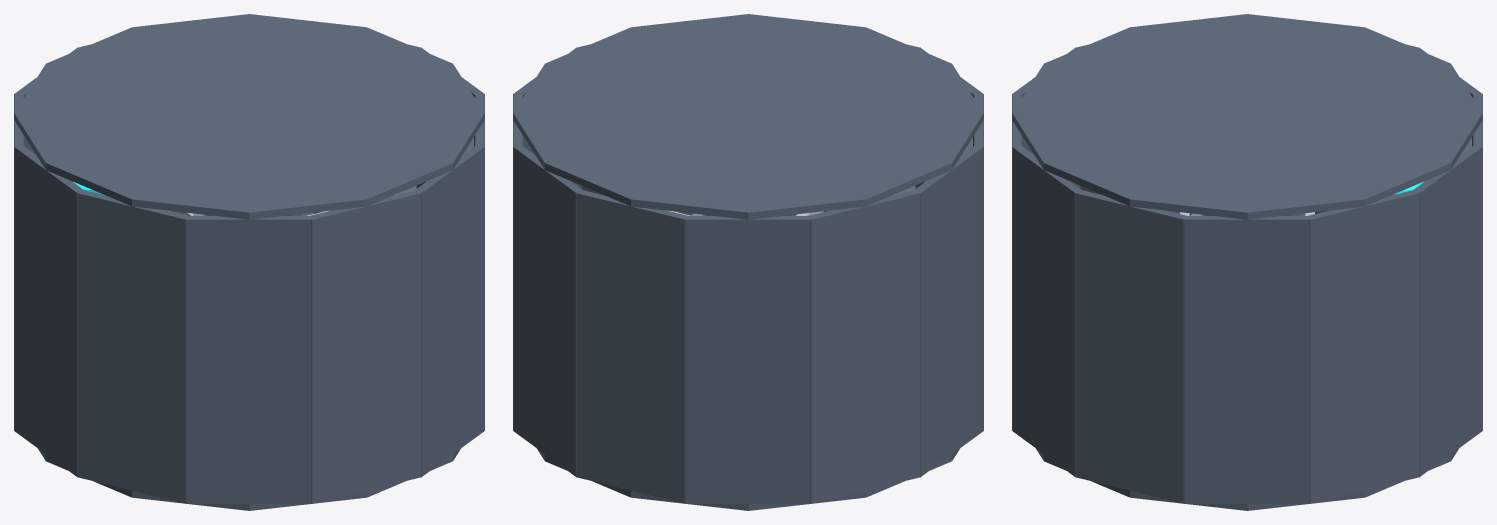
File: zero_g_reactor_arena_blockout.glb
3 renders of one model, left to right at view 1: azimuth 30°, elevation 25°; view 2: azimuth 150°, elevation 25°; view 3: azimuth 270°, elevation 25°, orthographic.
Visible parts, largest first — view 1: Hull_Ceiling, Hull_Wall_05, Hull_Wall_06, Hull_Wall_04, Hull_Wall_07, Hull_Wall_03, Hull_Floor, Hull_Wall_02, Hull_Wall_08; view 2: Hull_Ceiling, Hull_Wall_09, Hull_Wall_10, Hull_Wall_08, Hull_Wall_11, Hull_Wall_07, Hull_Floor, Hull_Wall_06, Hull_Wall_12; view 3: Hull_Ceiling, Hull_Wall_01, Hull_Wall_02, Hull_Wall_12, Hull_Wall_03, Hull_Wall_11, Hull_Floor, Hull_Wall_04, Hull_Wall_10.
Boxes of the visible parts, x1=… form: Hull_Ceiling: x1=14, y1=14, x2=484, y2=219; Hull_Wall_05: x1=185, y1=216, x2=313, y2=503; Hull_Wall_06: x1=76, y1=190, x2=190, y2=503; Hull_Wall_04: x1=307, y1=190, x2=422, y2=503; Hull_Wall_07: x1=14, y1=145, x2=85, y2=477; Hull_Wall_03: x1=413, y1=146, x2=484, y2=477; Hull_Floor: x1=38, y1=448, x2=460, y2=510; Hull_Wall_02: x1=475, y1=93, x2=484, y2=430; Hull_Wall_08: x1=14, y1=93, x2=23, y2=430; Hull_Ceiling: x1=513, y1=14, x2=983, y2=219; Hull_Wall_09: x1=684, y1=216, x2=812, y2=503; Hull_Wall_10: x1=575, y1=190, x2=689, y2=503; Hull_Wall_08: x1=806, y1=190, x2=921, y2=503; Hull_Wall_11: x1=513, y1=145, x2=584, y2=477; Hull_Wall_07: x1=912, y1=146, x2=983, y2=477; Hull_Floor: x1=537, y1=448, x2=959, y2=510; Hull_Wall_06: x1=974, y1=93, x2=983, y2=430; Hull_Wall_12: x1=513, y1=93, x2=522, y2=430; Hull_Ceiling: x1=1012, y1=14, x2=1482, y2=219; Hull_Wall_01: x1=1183, y1=216, x2=1311, y2=503; Hull_Wall_02: x1=1074, y1=190, x2=1188, y2=503; Hull_Wall_12: x1=1306, y1=190, x2=1420, y2=503; Hull_Wall_03: x1=1012, y1=145, x2=1083, y2=477; Hull_Wall_11: x1=1412, y1=146, x2=1482, y2=477; Hull_Floor: x1=1036, y1=448, x2=1458, y2=510; Hull_Wall_04: x1=1012, y1=93, x2=1021, y2=430; Hull_Wall_10: x1=1473, y1=93, x2=1482, y2=430.
Bounding box in the file's own units: 60.09 × 42 × 60.09.
